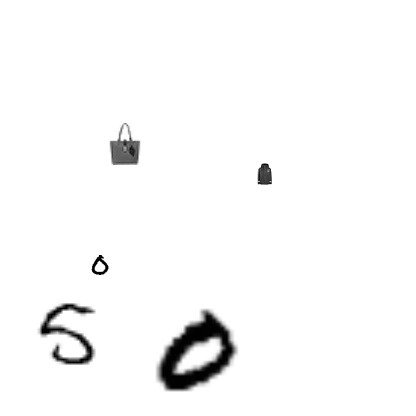0: (249, 122, 305, 178)
8: (35, 322, 91, 378)
9: (103, 166, 215, 278)
Pullover: (258, 223, 342, 307), (23, 261, 65, 303)
Shirt: (15, 173, 99, 257)
Sneaker: (299, 328, 355, 384)
